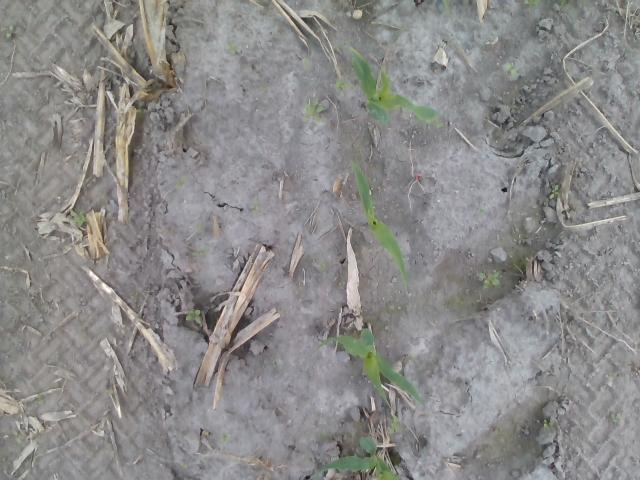Maize: (315, 326, 424, 410), (348, 156, 408, 290), (344, 41, 439, 125), (307, 436, 403, 480), (416, 0, 458, 25)
Weeds: (302, 98, 324, 123), (478, 271, 500, 289), (333, 77, 351, 98), (386, 416, 404, 434), (70, 210, 88, 226), (185, 309, 202, 324), (503, 63, 518, 78), (226, 40, 240, 55), (250, 198, 260, 216), (548, 185, 560, 199), (192, 246, 208, 256), (33, 393, 45, 406), (610, 411, 622, 423), (429, 118, 443, 128), (12, 430, 22, 444), (176, 176, 187, 188), (193, 220, 204, 232), (543, 418, 554, 430), (6, 25, 16, 38), (407, 352, 418, 363), (219, 432, 231, 442), (128, 290, 139, 300), (524, 0, 542, 6), (316, 261, 326, 271), (136, 108, 152, 114), (332, 43, 340, 51), (558, 0, 568, 6), (259, 86, 266, 93), (303, 59, 309, 66)
